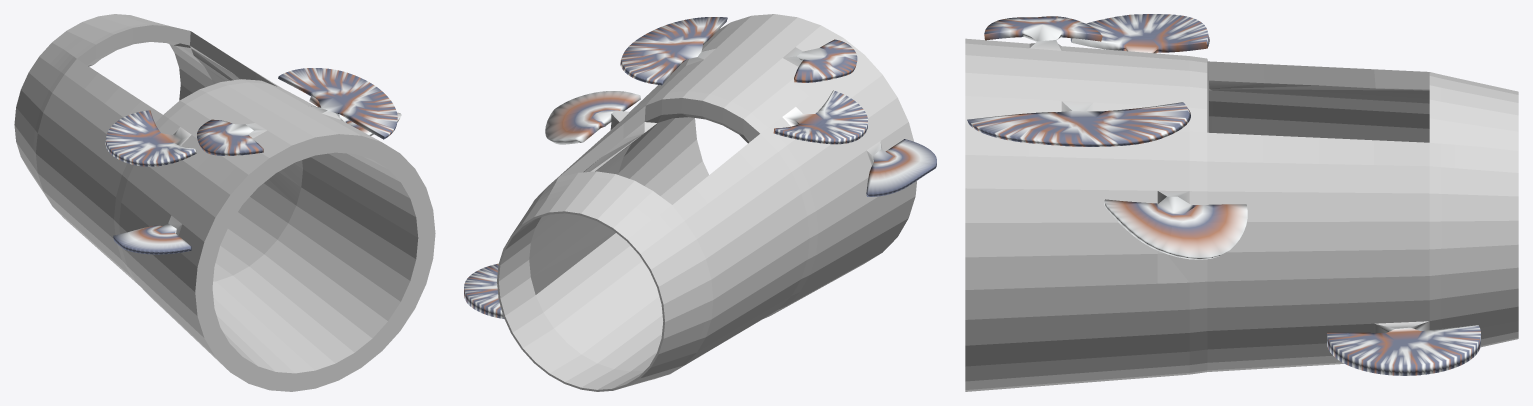
Rendered from prusaPrint.glb.
The picture shows the model from 3 angles, left to right: view 1: azimuth 30°, elevation 25°; view 2: azimuth 150°, elevation 25°; view 3: azimuth 270°, elevation 25°; orthographic projection. The views are drawn at different scales.
Parts seen in each view (by area): view 1: Mesh_0.003; view 2: Mesh_0.003; view 3: Mesh_0.003.
Part boxes in pixels (x1,y1,x2,y2): Mesh_0.003: (14,14,435,391); Mesh_0.003: (464,14,936,391); Mesh_0.003: (965,14,1518,391).
Size of the model in its own units: 0.1523 by 0.1109 by 0.1735.
